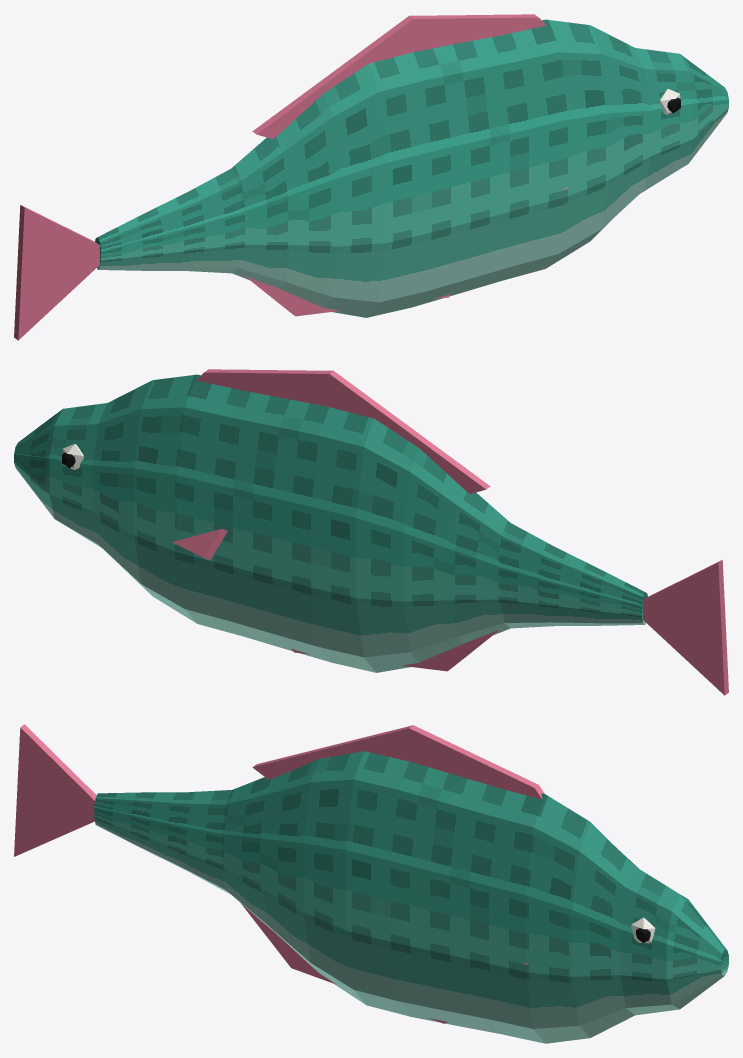
The model's file is parrotfish.glb.
The picture shows the model from 3 angles, top to bottom: view 1: azimuth 30°, elevation 25°; view 2: azimuth 150°, elevation 25°; view 3: azimuth 330°, elevation 25°; orthographic projection.
Parts seen in each view (by area): view 1: fish_parrotfish; view 2: fish_parrotfish; view 3: fish_parrotfish.
Part boxes in pixels (x1,y1,x2,y2): fish_parrotfish: (14,14,728,340); fish_parrotfish: (14,369,728,695); fish_parrotfish: (14,724,728,1043).
Size of the model in its own units: 1.13 by 0.4423 by 0.1417.
4 materials, 1 textured.
